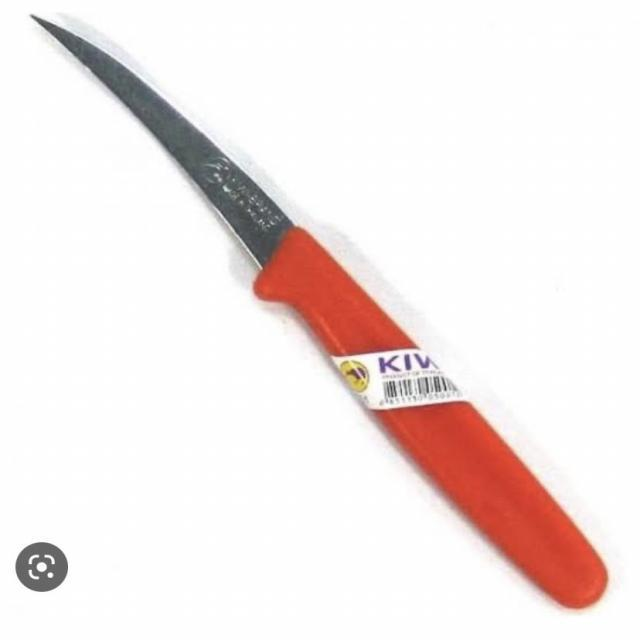Knife: (26, 6, 618, 616)
